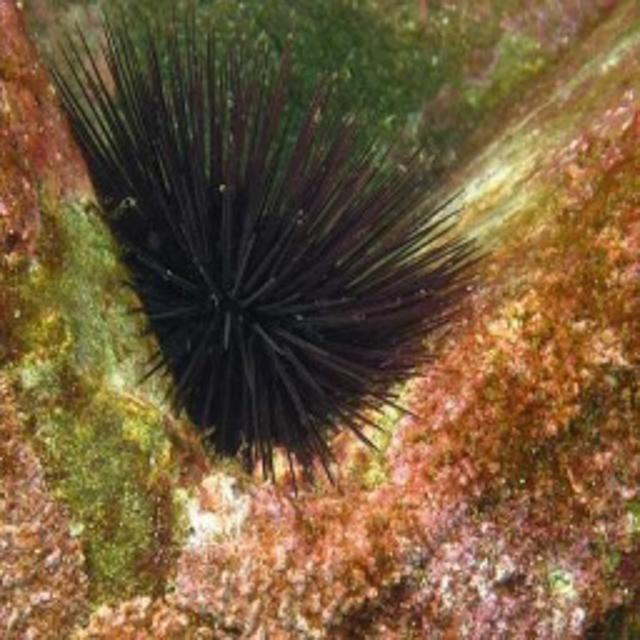Urchin: (32, 3, 491, 490)
